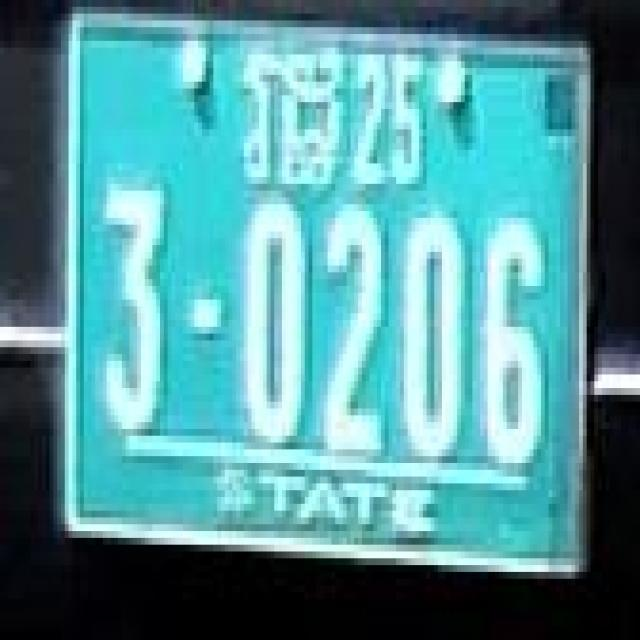State: (240, 48, 342, 192)
